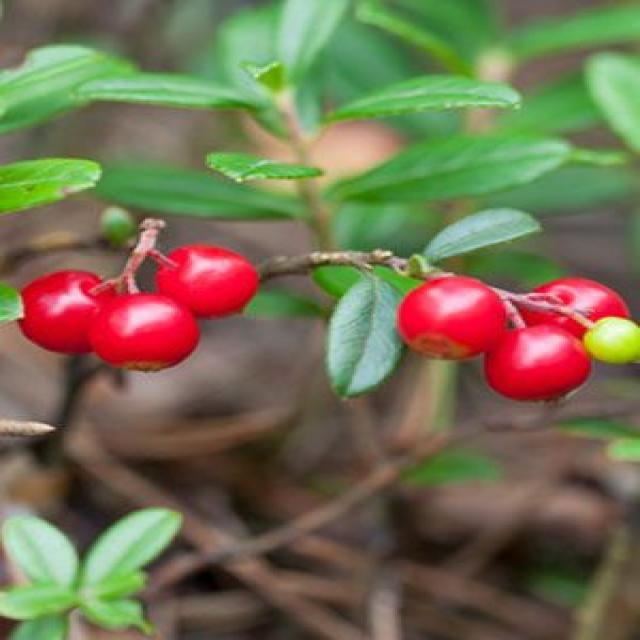level 2: (589, 310, 640, 365)
level 6: (399, 276, 512, 362), (516, 275, 630, 358), (15, 268, 121, 354), (92, 290, 198, 371), (487, 326, 587, 402), (156, 245, 260, 316)
